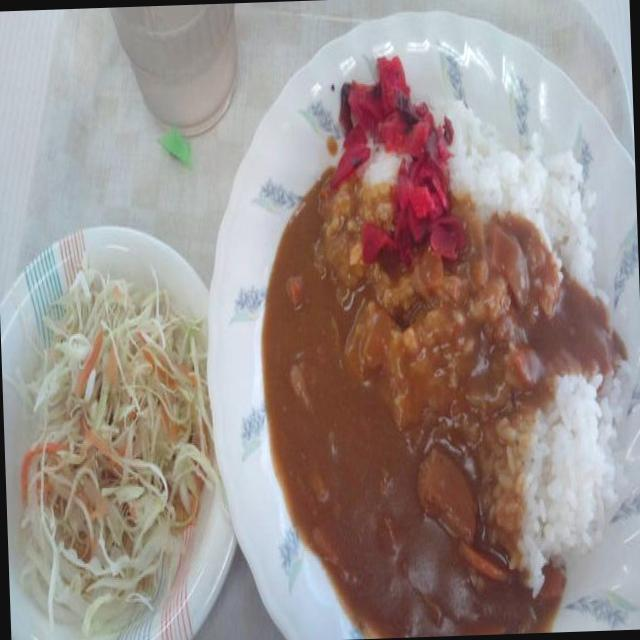Beef Curry: (239, 170, 543, 638)
Green Salad: (13, 284, 208, 610)
